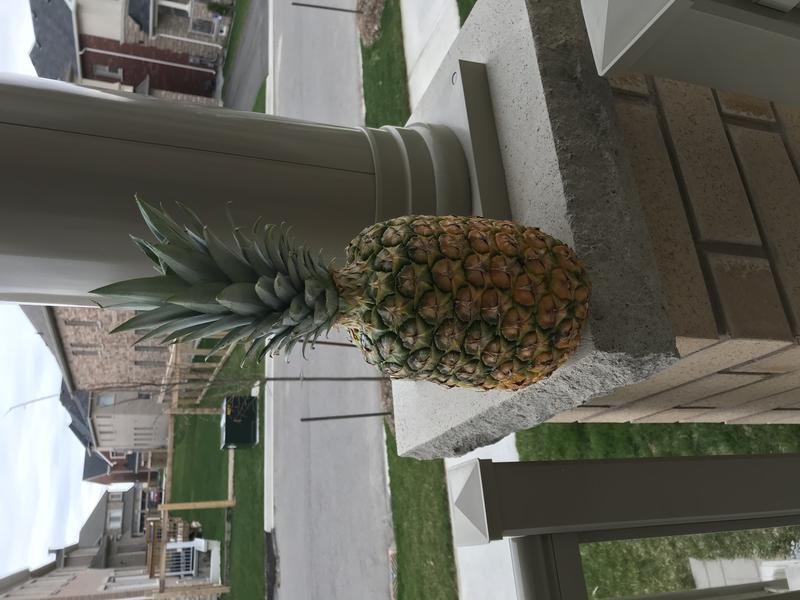pineapple: (97, 186, 600, 396)
